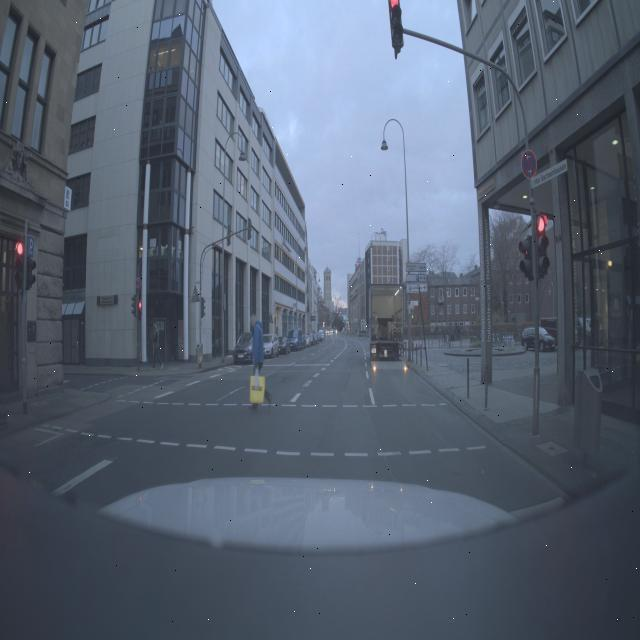red_light: (514, 206, 566, 286), (370, 0, 420, 67), (9, 228, 41, 308)
